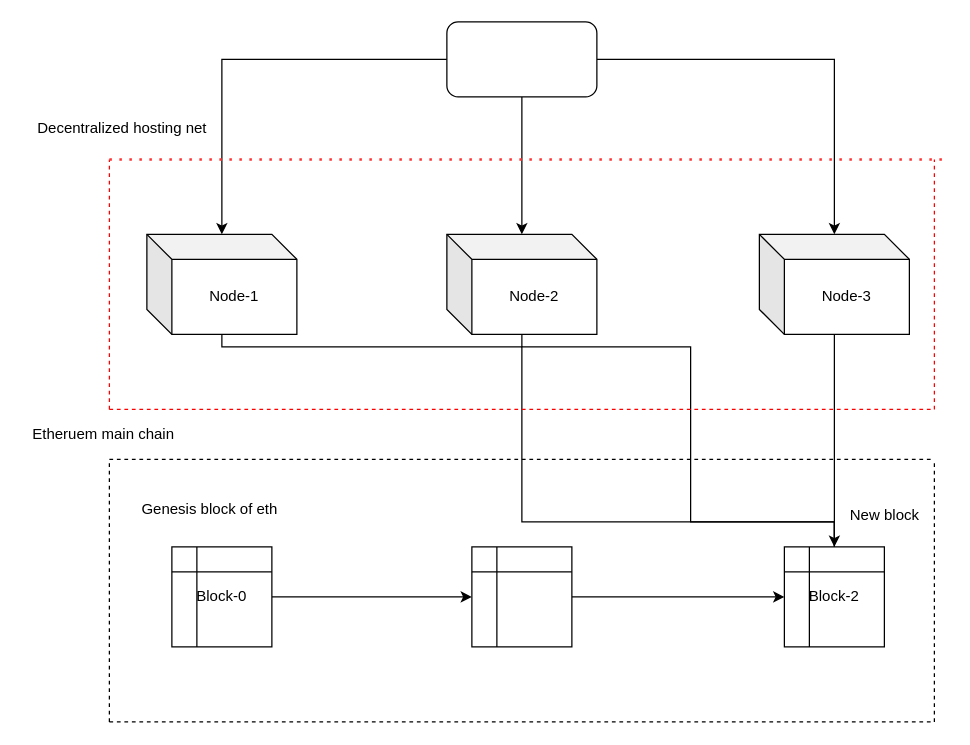
Image size: 970x745. Some labels were removed from this diagram. The centre of each missing label's shape, as x and y in pixels:
"Block-1" goes at (521,596).
"Smart Contract" goes at (521,59).
